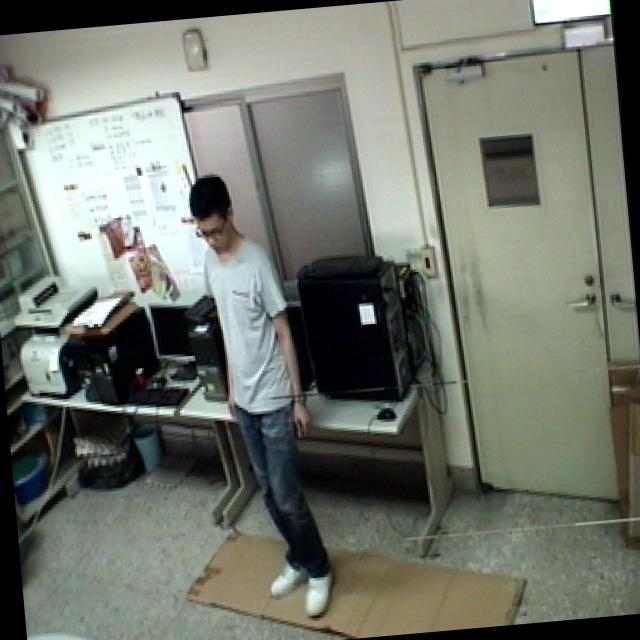stand: (180, 160, 345, 630)
